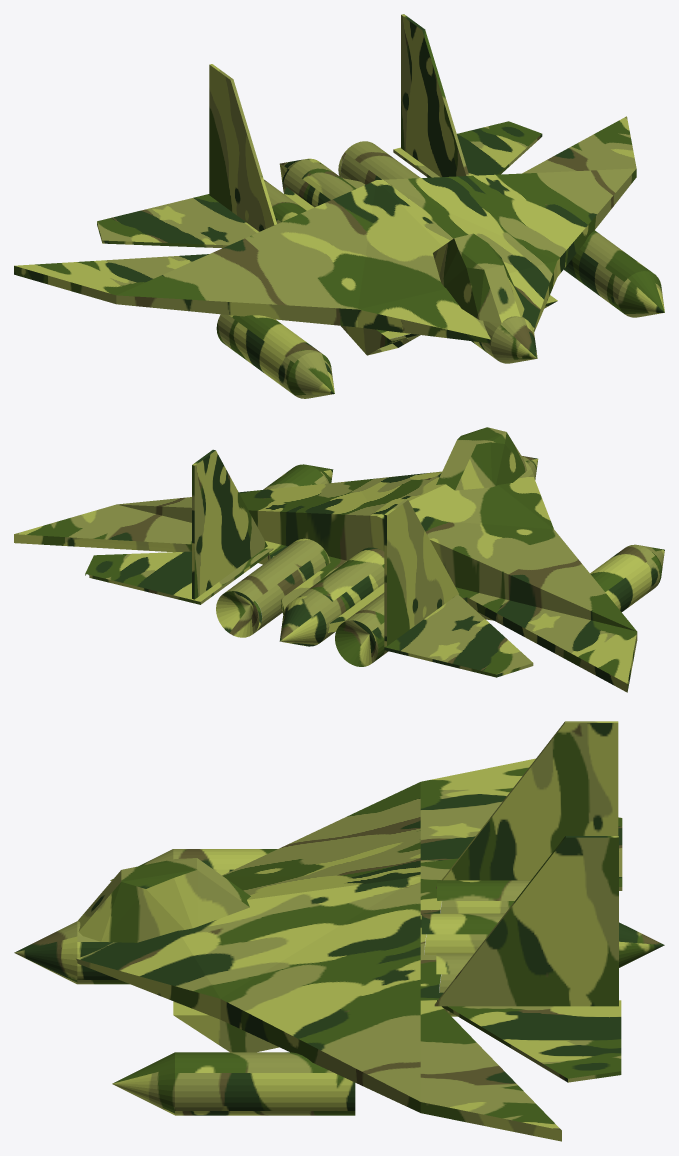
The model's file is middleBossEnemy.obj.
3 renders of one model, top to bottom at view 1: azimuth 30°, elevation 25°; view 2: azimuth 150°, elevation 25°; view 3: azimuth 270°, elevation 25°, orthographic. The views are drawn at different scales.
Visible parts, largest first — view 1: fighter; view 2: fighter; view 3: fighter.
Boxes of the visible parts, x1,y1,x2,y2 form: fighter: (14,14,664,398); fighter: (14,427,664,692); fighter: (14,721,664,1141).
Size of the model in its own units: 1.28 by 0.3756 by 0.9306.
1 material, 1 textured.
